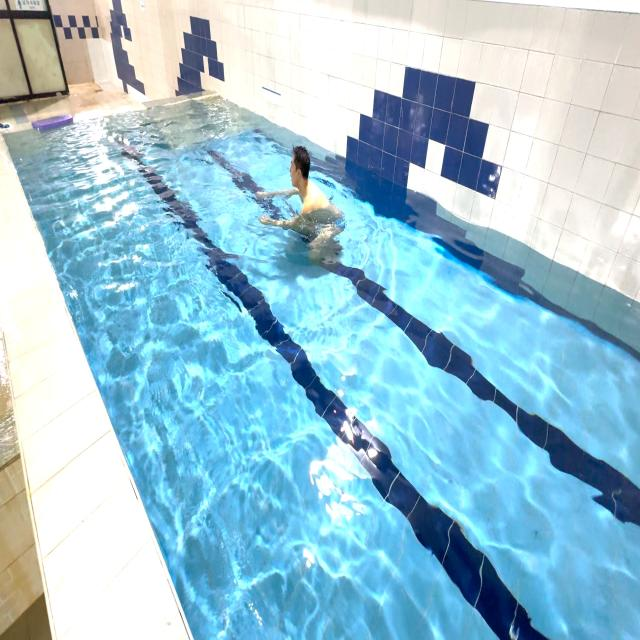Swimming: (252, 132, 356, 272)
